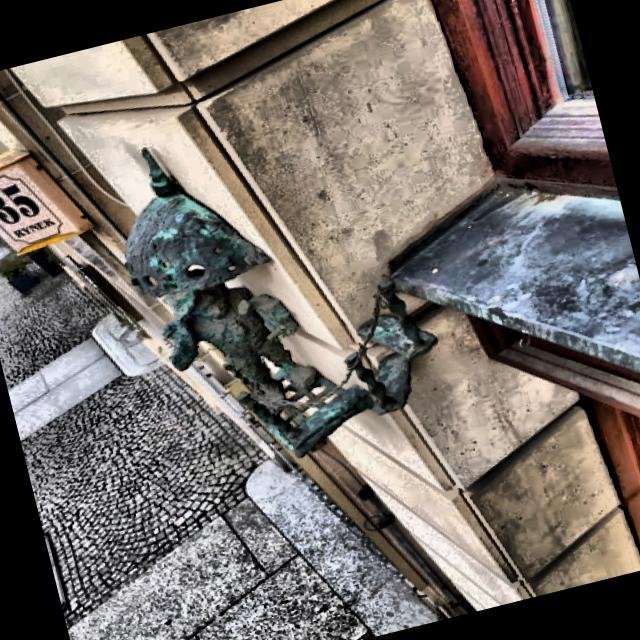Dryndek: (125, 149, 434, 456)
